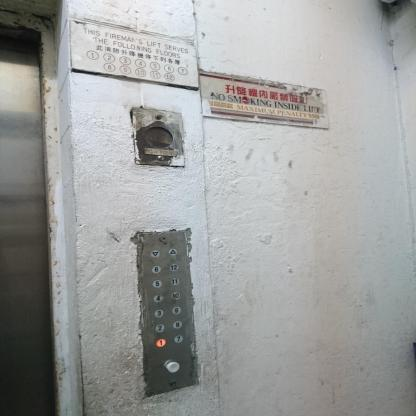1: (86, 50, 99, 60), (156, 339, 166, 347)
10: (135, 68, 146, 76), (171, 292, 180, 299)
11: (150, 70, 160, 79), (170, 277, 179, 285)
12: (164, 73, 174, 81), (170, 264, 178, 271)
2: (103, 53, 115, 62), (155, 324, 165, 332)
3: (119, 56, 130, 65), (154, 309, 164, 318)
4: (134, 59, 146, 68), (153, 295, 163, 302)
5: (150, 62, 160, 70), (152, 280, 162, 288)
6: (164, 64, 174, 72), (151, 265, 161, 273)
7: (173, 335, 183, 343), (178, 67, 187, 75)
8: (104, 63, 115, 72), (173, 320, 182, 328)
9: (119, 65, 130, 74), (172, 306, 182, 315)
down: (150, 249, 160, 258)
empty: (164, 359, 179, 373)
up: (168, 248, 177, 256)
